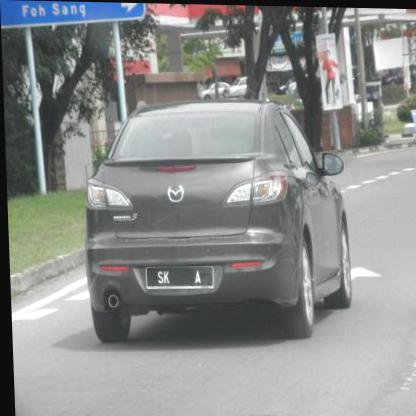License_Plate: (146, 265, 216, 292)
